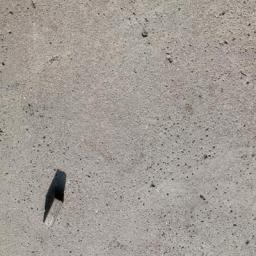FOD: (41, 166, 70, 232)
